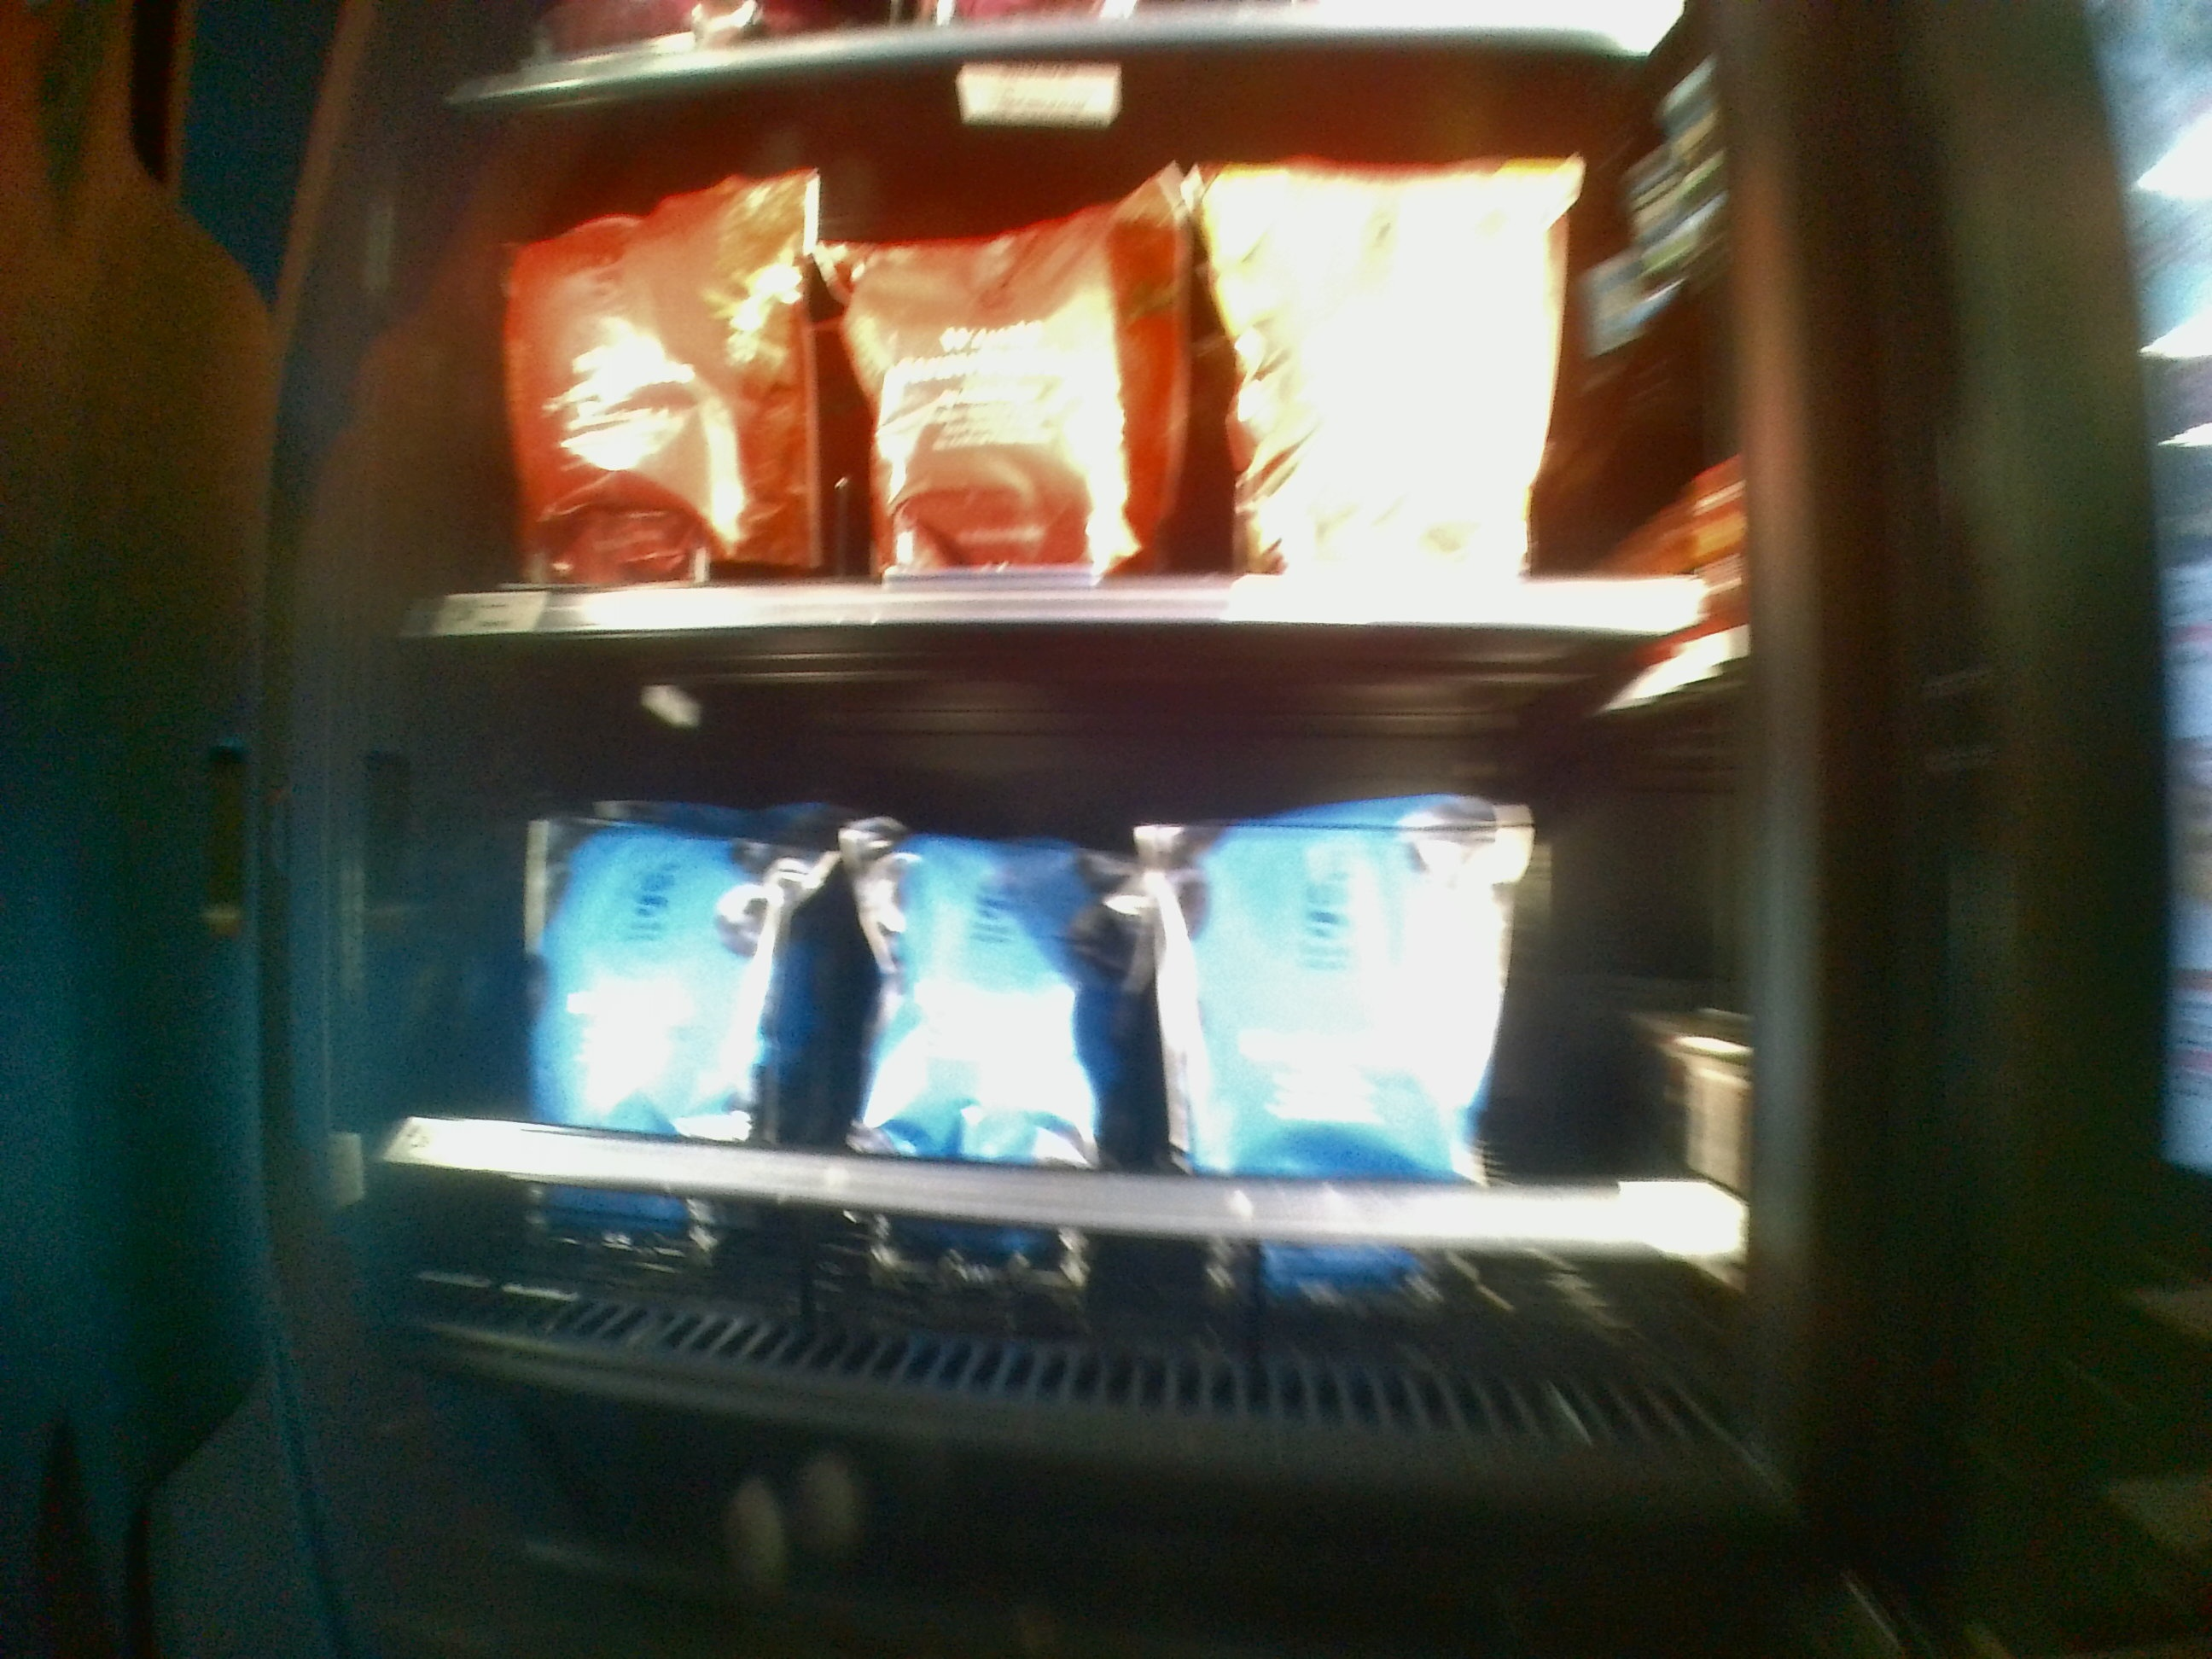shelf: (420, 643, 1738, 1394), (462, 68, 1702, 648)
